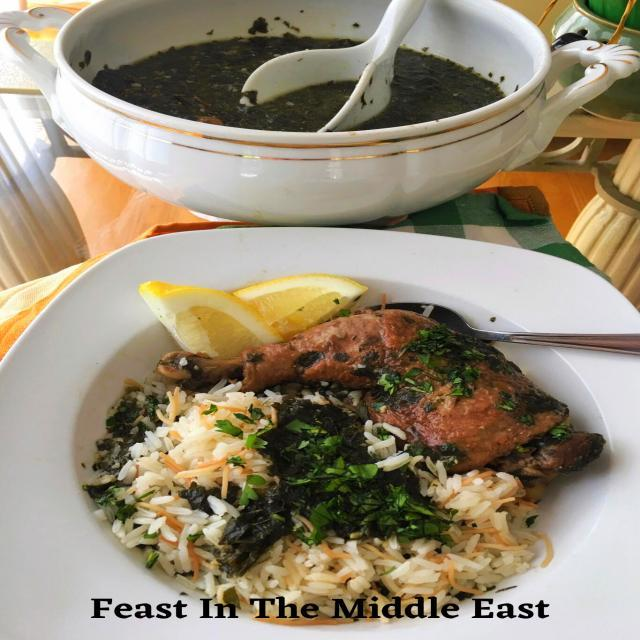molokhia: (66, 23, 538, 199)
